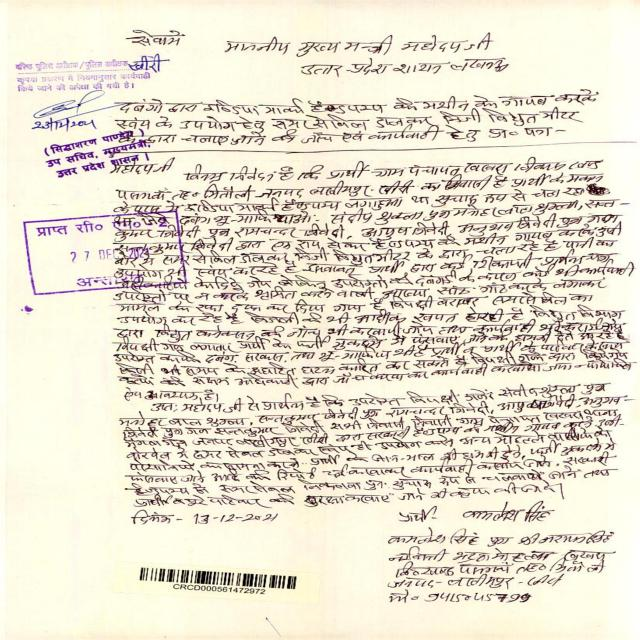barcode: (135, 566, 300, 597)
govtstamp: (23, 210, 185, 296)
pinkstamp: (39, 127, 158, 178), (17, 55, 156, 95)
